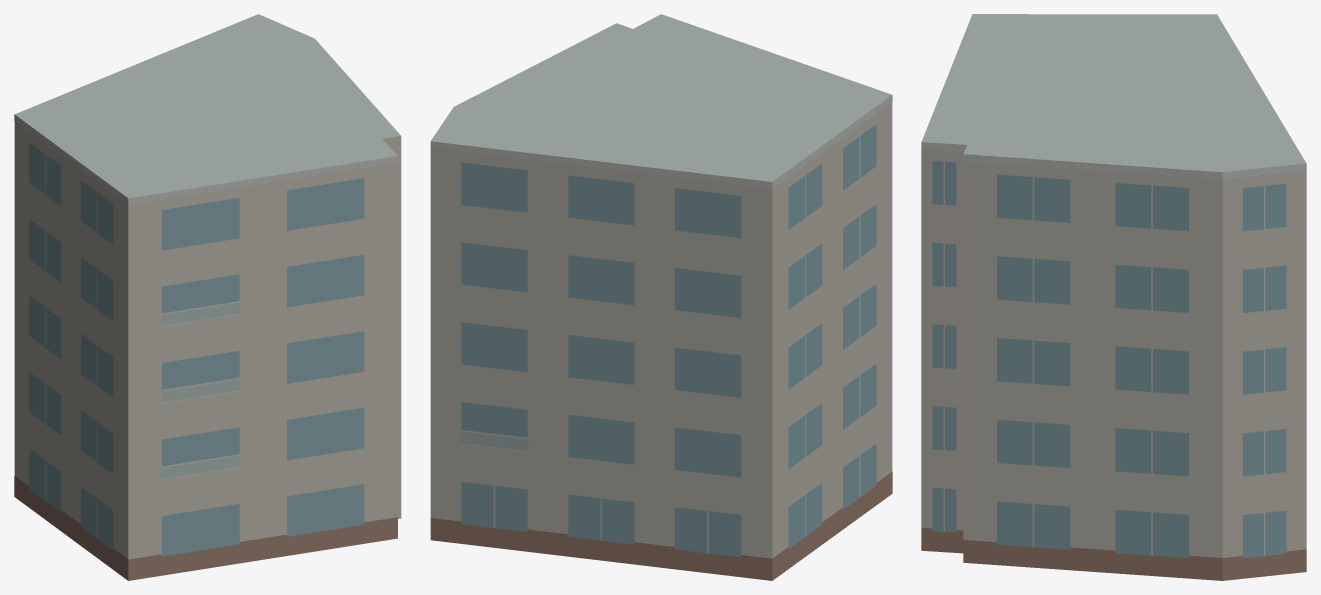
Rendered from survey-upis-32523997.glb.
3 renders of one model, left to right at view 1: azimuth 30°, elevation 25°; view 2: azimuth 150°, elevation 25°; view 3: azimuth 270°, elevation 25°, orthographic. The views are drawn at different scales.
Visible parts, largest first — view 1: survey-upis-32523997.tmp; view 2: survey-upis-32523997.tmp; view 3: survey-upis-32523997.tmp.
Part boxes in pixels (left/top/right/bottom): survey-upis-32523997.tmp: left=14, top=14, right=401, bottom=580; survey-upis-32523997.tmp: left=430, top=14, right=892, bottom=580; survey-upis-32523997.tmp: left=921, top=14, right=1306, bottom=580.
Bounding box in the file's own units: 11.72 × 14.1 × 12.06.
